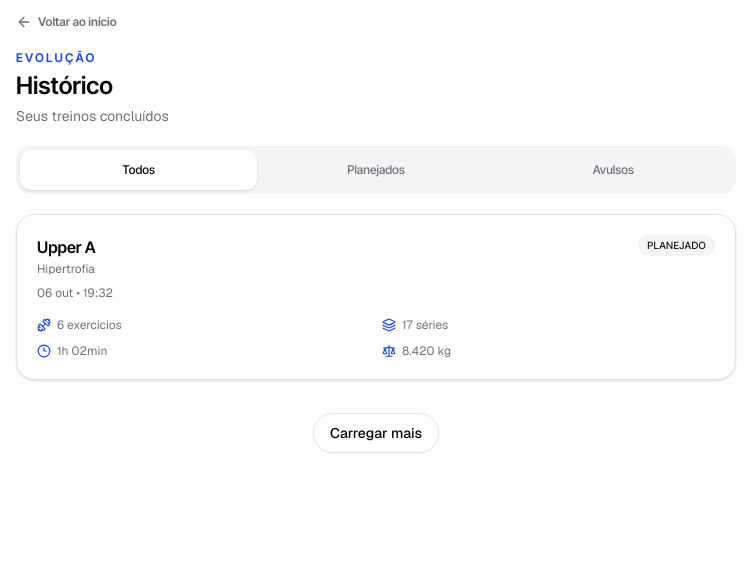
Test: Workout history UI — Task 3.5 › protege a troca rápida de filtros contra resposta antiga e reseta os itens
The width and height of the screenshot is (753, 563).
Click the button "Planejados" at (376, 170), box 257,150 -> 495,190
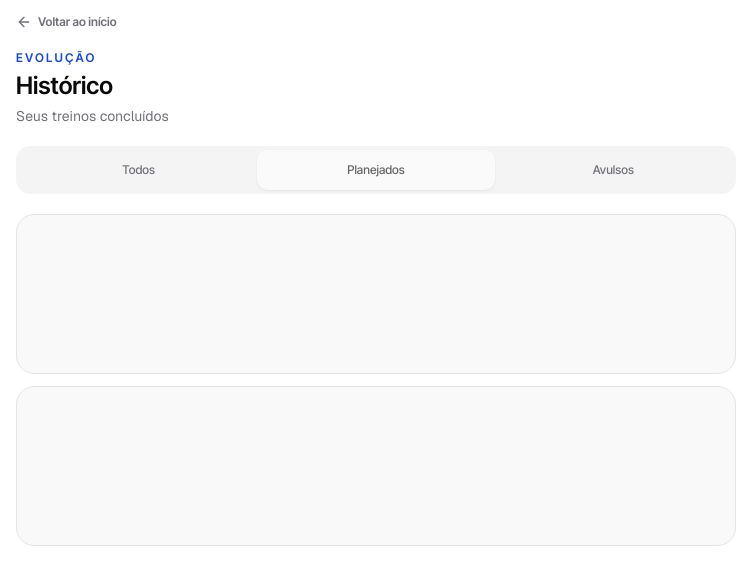
Now the link "Upper A" is gone
Click the button "Avulsos" at (613, 170), box 495,150 -> 732,190
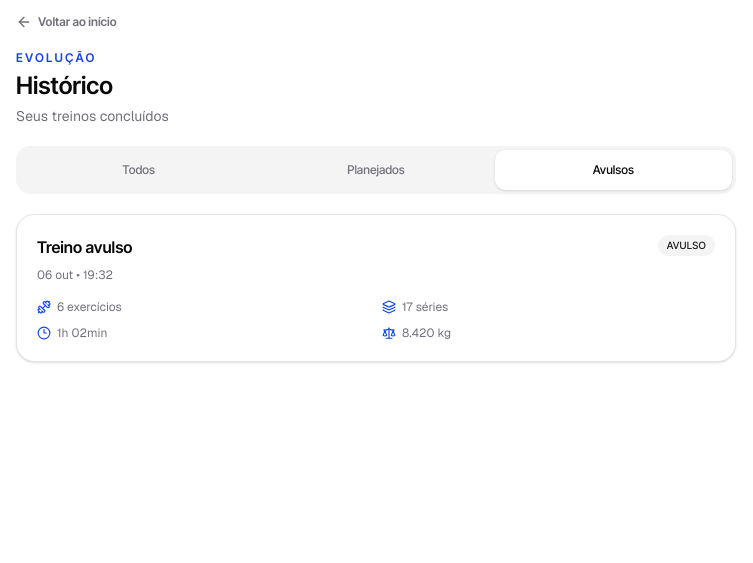
Now the heading "Treino avulso" is shown, box 37,235 -> 132,259
